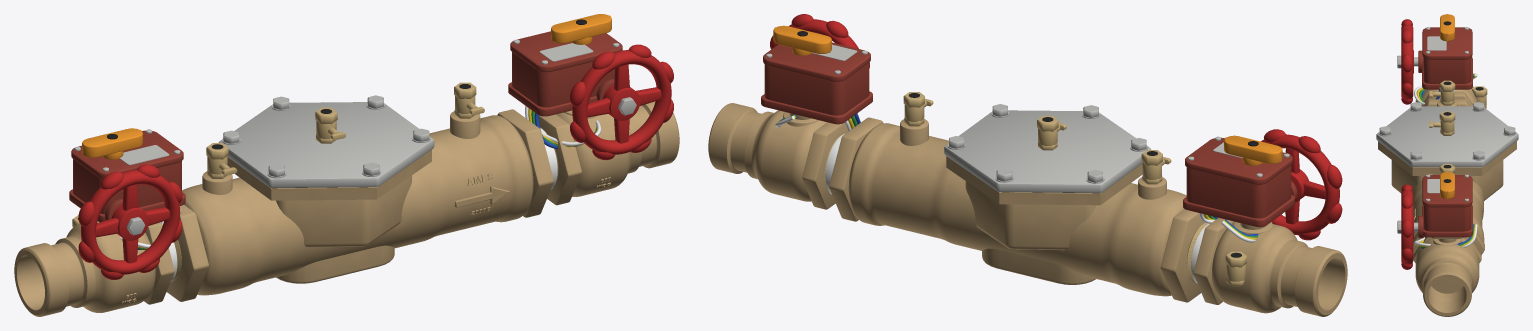
The picture shows the model from 3 angles, left to right: view 1: azimuth 30°, elevation 25°; view 2: azimuth 150°, elevation 25°; view 3: azimuth 270°, elevation 25°; orthographic projection. The views are drawn at different scales.
Visible parts, largest first — view 1: Body_main, Cover, ShutoffValve_Inlet, Handwheel_Outlet, Handwheel_Inlet, ShutoffValve_Outlet, Gearbox_Outlet, Gearbox_Inlet, CoverBolts, Indicator_Inlet, Indicator_Outlet, TestCock_4 (+4 smaller); view 2: Body_main, Cover, ShutoffValve_Inlet, ShutoffValve_Outlet, Gearbox_Inlet, Gearbox_Outlet, Handwheel_Inlet, CoverBolts, Indicator_Outlet, Indicator_Inlet, Handwheel_Outlet, TestCock_4 (+3 smaller); view 3: Cover, ShutoffValve_Outlet, Body_main, Gearbox_Outlet, Gearbox_Inlet, Handwheel_Inlet, Handwheel_Outlet, CoverBolts, ShutoffValve_Inlet, TestCock_2, TestCock_3, Indicator_Inlet (+8 smaller).
Part boxes in pixels (left/top/right/bottom): Body_main: left=166, top=109, right=553, bottom=301; Cover: left=218, top=102, right=434, bottom=187; ShutoffValve_Inlet: left=14, top=221, right=174, bottom=316; Handwheel_Outlet: left=570, top=44, right=673, bottom=160; Handwheel_Inlet: left=78, top=164, right=182, bottom=279; ShutoffValve_Outlet: left=539, top=101, right=679, bottom=205; Gearbox_Outlet: left=508, top=31, right=622, bottom=116; Gearbox_Inlet: left=69, top=130, right=185, bottom=222; CoverBolts: left=222, top=95, right=430, bottom=178; Indicator_Inlet: left=82, top=128, right=142, bottom=159; Indicator_Outlet: left=551, top=14, right=611, bottom=44; TestCock_4: left=454, top=82, right=484, bottom=118; Body_main: left=829, top=117, right=1205, bottom=302; Cover: left=944, top=110, right=1151, bottom=192; ShutoffValve_Inlet: left=1193, top=218, right=1347, bottom=316; ShutoffValve_Outlet: left=708, top=103, right=847, bottom=209; Gearbox_Inlet: left=1183, top=137, right=1297, bottom=227; Gearbox_Outlet: left=761, top=42, right=872, bottom=124; Handwheel_Inlet: left=1261, top=129, right=1342, bottom=240; CoverBolts: left=947, top=104, right=1148, bottom=183; Indicator_Outlet: left=773, top=25, right=831, bottom=55; Indicator_Inlet: left=1224, top=135, right=1282, bottom=165; Handwheel_Outlet: left=770, top=14, right=869, bottom=68; TestCock_4: left=903, top=92, right=933, bottom=126; Cover: left=1376, top=106, right=1518, bottom=167; ShutoffValve_Outlet: left=1413, top=237, right=1481, bottom=316; Body_main: left=1378, top=99, right=1516, bottom=254; Gearbox_Outlet: left=1418, top=175, right=1472, bottom=238; Gearbox_Inlet: left=1418, top=27, right=1472, bottom=89; Handwheel_Inlet: left=1401, top=19, right=1413, bottom=104; Handwheel_Outlet: left=1401, top=184, right=1413, bottom=269; CoverBolts: left=1378, top=102, right=1516, bottom=160; ShutoffValve_Inlet: left=1415, top=86, right=1477, bottom=106; TestCock_2: left=1429, top=80, right=1455, bottom=105; TestCock_3: left=1429, top=111, right=1455, bottom=135; Indicator_Inlet: left=1440, top=14, right=1454, bottom=41.
Bounding box in the file's own units: 0.337 × 0.0902 × 0.0955.
17 materials, 1 textured.
